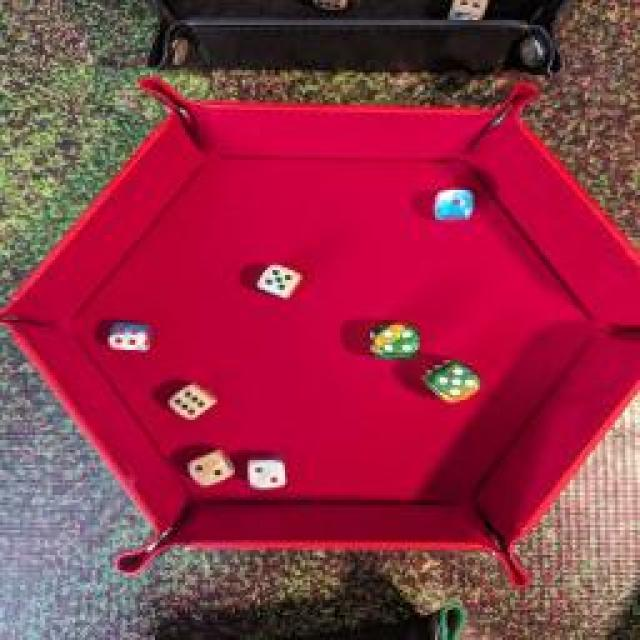dice_1: (426, 187, 476, 225)
dice_2: (245, 450, 295, 492), (188, 448, 240, 488)
dice_4: (366, 320, 422, 365), (101, 318, 159, 354), (452, 0, 488, 25)
dice_5: (414, 357, 488, 405), (255, 259, 305, 299)
dice_6: (168, 380, 222, 420)
